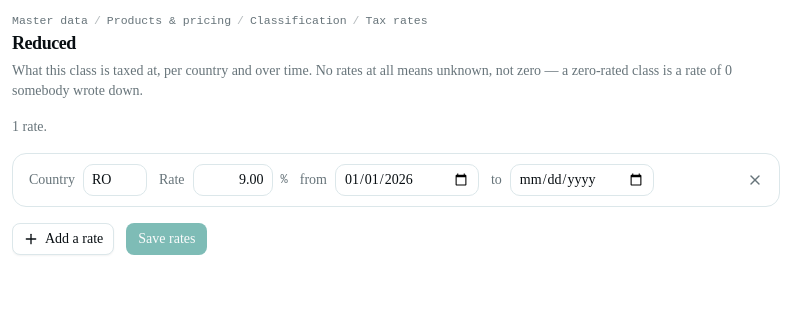
<TaxRates> › says a refusal in the reader's language, not the server's
This screenshot has width=797, height=335.
Expected: the button "Save rates" is shown, [126, 223, 208, 255]
Replace the text in the field named "Percentage, rate 1" with "10.00" at (232, 180), box [192, 164, 272, 196]
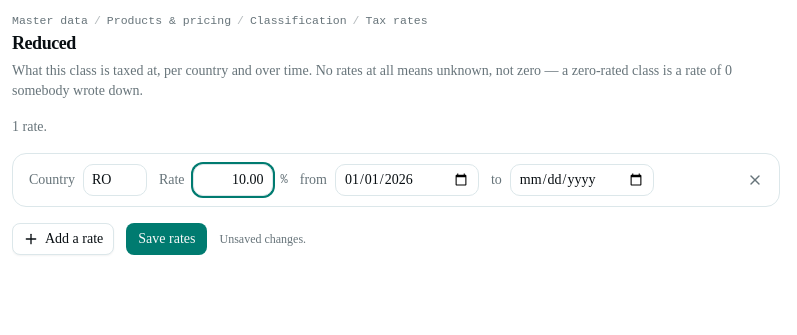
Click the button "Save rates" at (167, 239), box [126, 223, 208, 255]
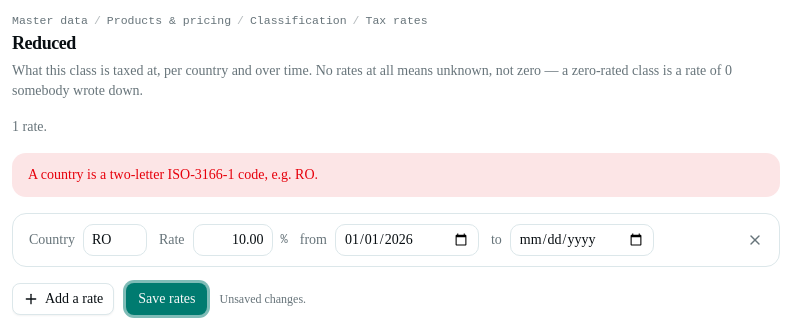
Result: the message "A country is a two-letter ISO-3166-1 code, e.g. RO." is shown at [12, 153, 780, 197]
